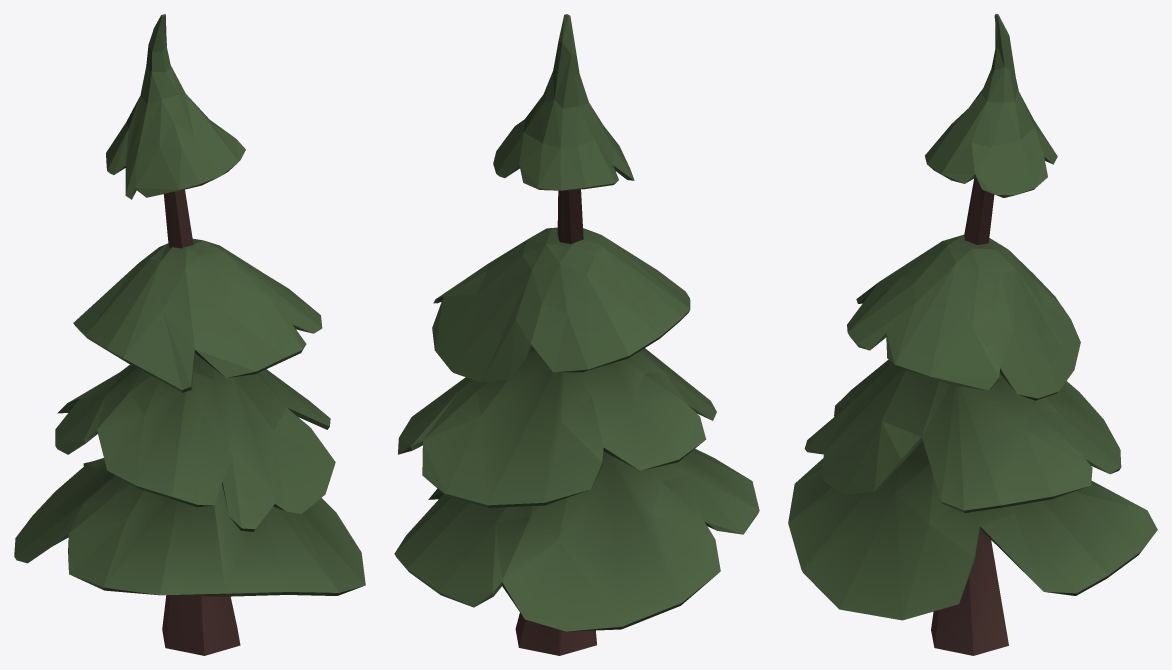
Rendered from tree-pine-2.glb.
3 renders of one model, left to right at view 1: azimuth 30°, elevation 25°; view 2: azimuth 150°, elevation 25°; view 3: azimuth 270°, elevation 25°, orthographic. The views are drawn at different scales.
Visible parts, largest first — view 1: tree-pine-2; view 2: tree-pine-2; view 3: tree-pine-2.
Part boxes in pixels (x1,y1,x2,y2): tree-pine-2: (14,14,365,655); tree-pine-2: (394,14,759,655); tree-pine-2: (788,14,1157,655).
Size of the model in its own units: 3.51 by 7 by 3.84.
